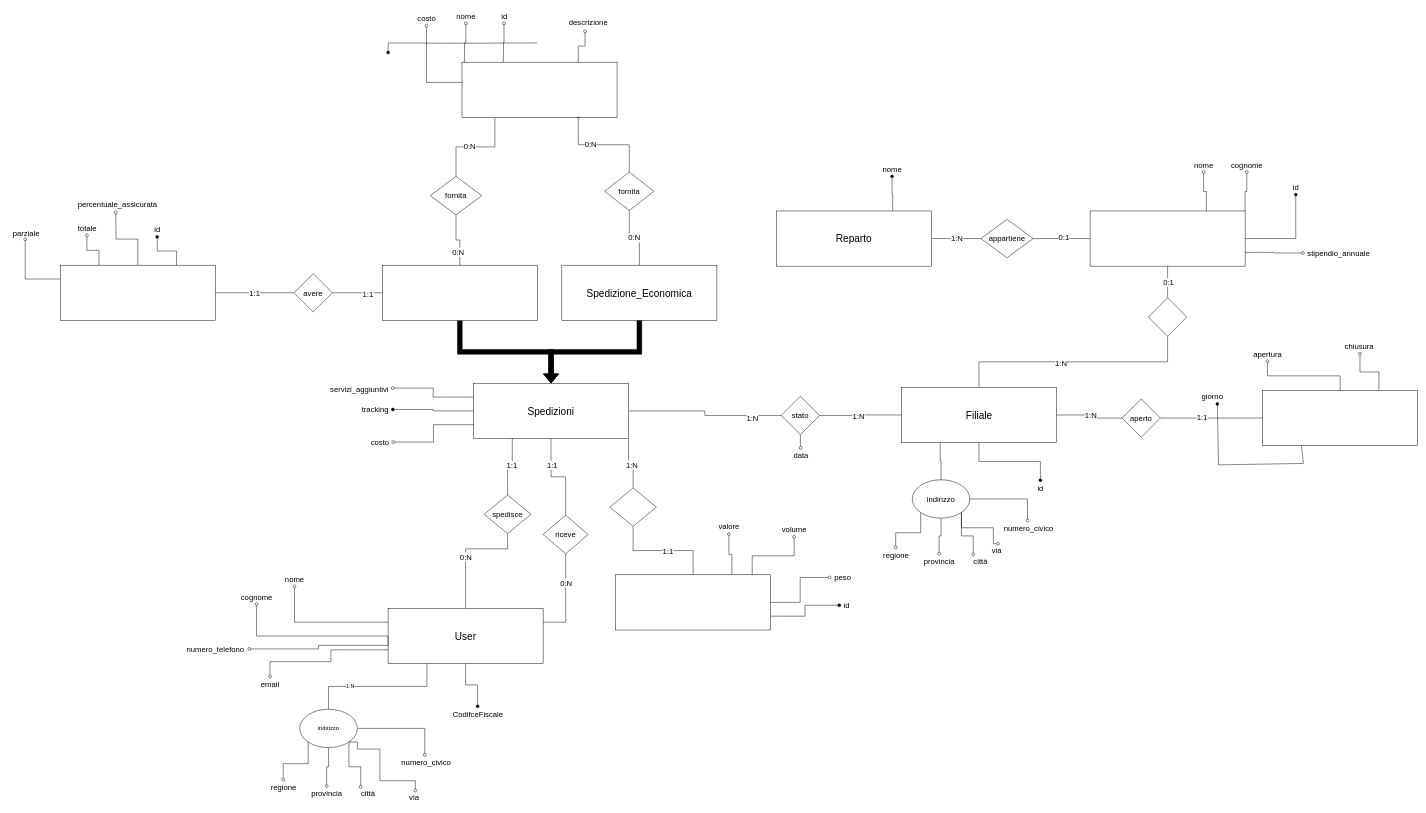
Image size: 1426x813. Some labels were removed from this diagram. The centre of each missing label's shape, as x and y in pixels:
Assicurazione: point 137,292
contiene: point 632,506
Dipendente: point 1167,238
lavora: point 1167,316
Orario: point 1340,418
Pacco: point 693,602
Servizi: point 539,89
Spedizione_Premium: point 459,292
